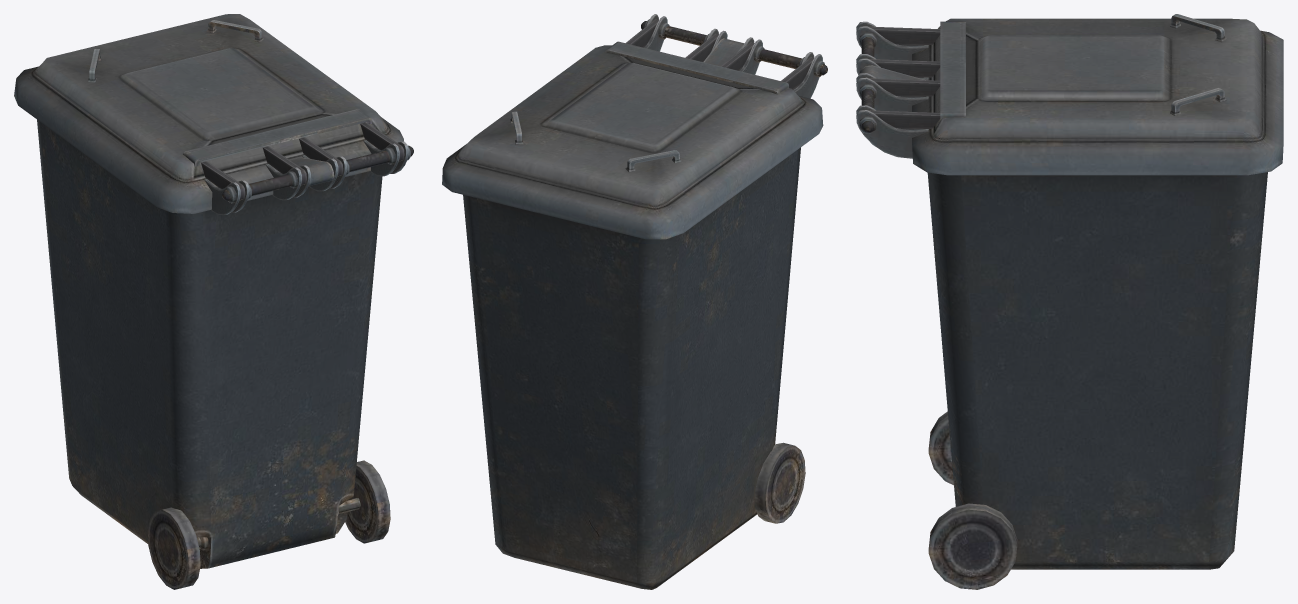
The model's file is Trash_Can_1.glb.
3 views of the same model, side by side, from view 1: azimuth 30°, elevation 25°; view 2: azimuth 150°, elevation 25°; view 3: azimuth 270°, elevation 25° (orthographic). The views are drawn at different scales.
Parts seen in each view (by area): view 1: Trash_Can_1__LOD4; view 2: Trash_Can_1__LOD4; view 3: Trash_Can_1__LOD4.
Boxes of the visible parts, x1,y1,x2,y2 form: Trash_Can_1__LOD4: (14,14,413,589); Trash_Can_1__LOD4: (442,14,827,589); Trash_Can_1__LOD4: (856,14,1283,589).
Size of the model in its own units: 0.7209 by 1.25 by 1.01.
Materials: 1 (1 with a texture image).
